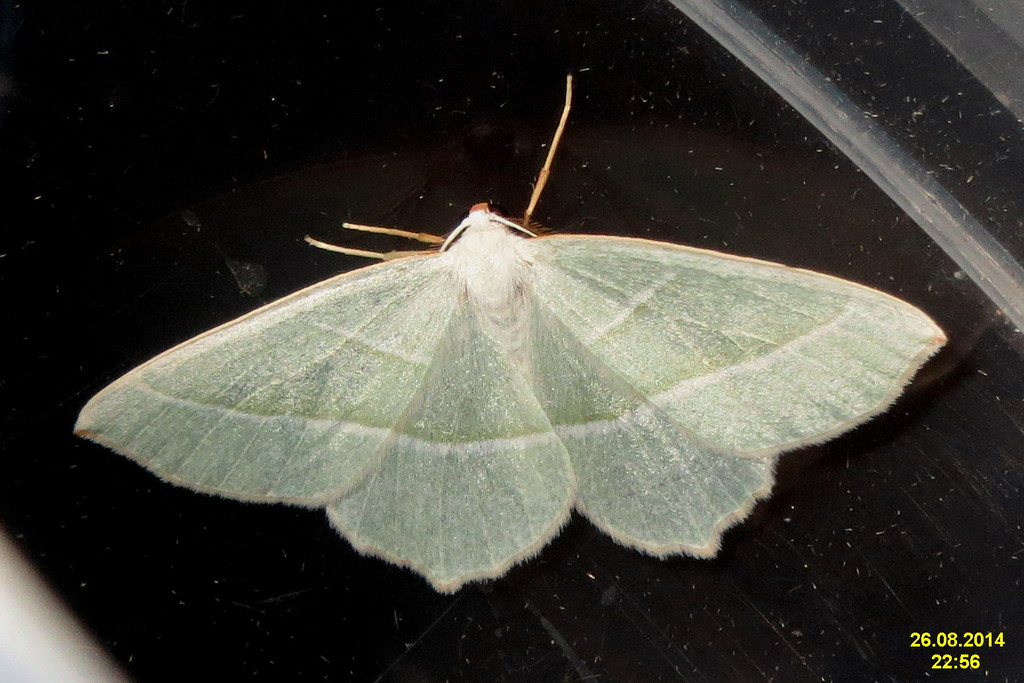Butterfly: (57, 156, 953, 589)
